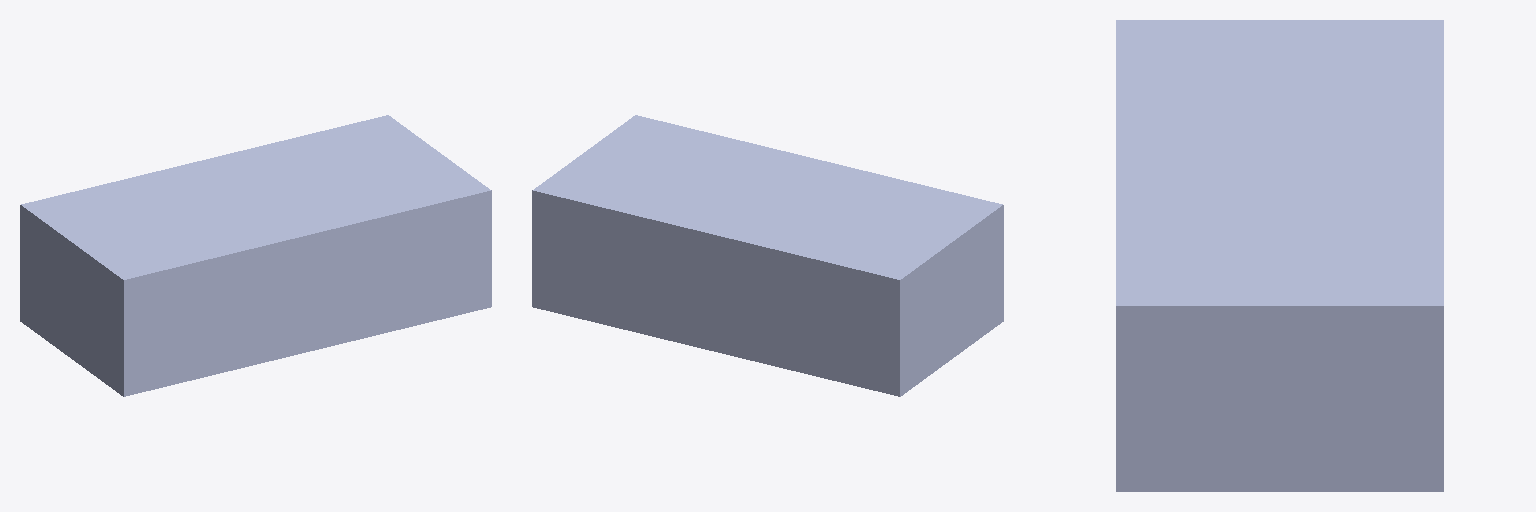
The robot description file, URDF, robot "object":
<?xml version="1.0" ?>
<!-- =================================================================================== -->
<!-- |    This document was autogenerated by xacro from [local-path]/ws_moveit2/src/object_description-20250821T110253Z-1-001/object_description/urdf/object.xacro | -->
<!-- |    EDITING THIS FILE BY HAND IS NOT RECOMMENDED                                 | -->
<!-- =================================================================================== -->
<robot name="object">
  <material name="silver_default">
    <color rgba="0.700 0.700 0.700 1.000"/>
  </material>
  <material name="opaque202209238">
    <color rgba="0.792156862745098 0.8196078431372549 0.9333333333333333 1.0"/>
  </material>
  <link name="base_link">
    <inertial>
      <origin rpy="0 0 0" xyz="1.3880000000000001 -0.7295000000000013 0.00750000000000316"/>
      <mass value="0.20327104000000024"/>
      <inertia ixx="1.7e-05" ixy="0.0" ixz="0.0" iyy="5.8e-05" iyz="0.0" izz="6.6e-05"/>
    </inertial>
    <visual>
      <origin rpy="0 0 0" xyz="0 0 0"/>
      <geometry>
        <mesh filename="package://object_description/meshes/base_link.stl" scale="0.001 0.001 0.001"/>
      </geometry>
      <material name="opaque202209238"/>
    </visual>
    <collision>
      <origin rpy="0 0 0" xyz="0 0 0"/>
      <geometry>
        <mesh filename="package://object_description/meshes/base_link.stl" scale="0.001 0.001 0.001"/>
      </geometry>
    </collision>
  </link>
</robot>

--- Render facts (derived) ---
3 views of the same robot in one strip: view 1: azimuth 30°, elevation 25°; view 2: azimuth 150°, elevation 25°; view 3: azimuth 270°, elevation 25° (orthographic).
Model object with 1 links and 0 joints (none), rooted at base_link, posed all joints at 0.
Links seen in each view (by area): view 1: base_link; view 2: base_link; view 3: base_link.
Link boxes in pixels (box(x1,y1,x2,y2)): base_link: box(20, 115, 491, 396); base_link: box(532, 115, 1003, 396); base_link: box(1116, 20, 1443, 491).
Bounding box of the posed robot: 0.056 × 0.0272 × 0.017 m (x, y, z).
Meshes: 1 distinct files referenced, 1 mesh visuals loaded (1 binary STL).